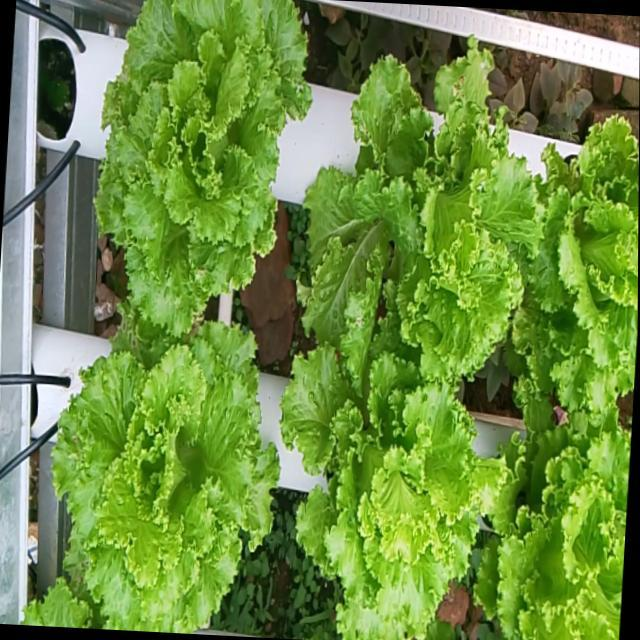Mature: (307, 12, 544, 378), (38, 316, 284, 634), (97, 0, 315, 334), (284, 341, 510, 640), (481, 390, 632, 640), (519, 108, 639, 407)
